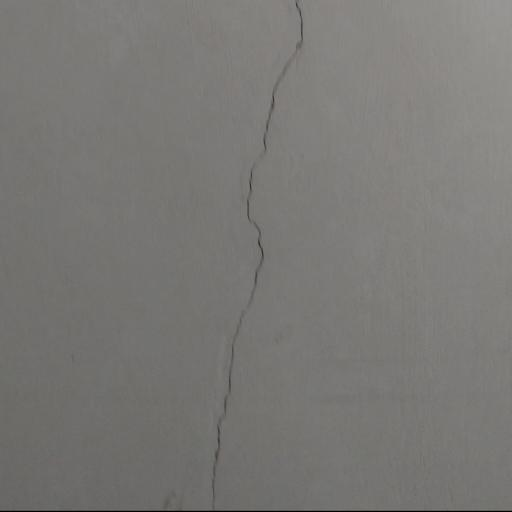minor_crack: (200, 0, 312, 512)
